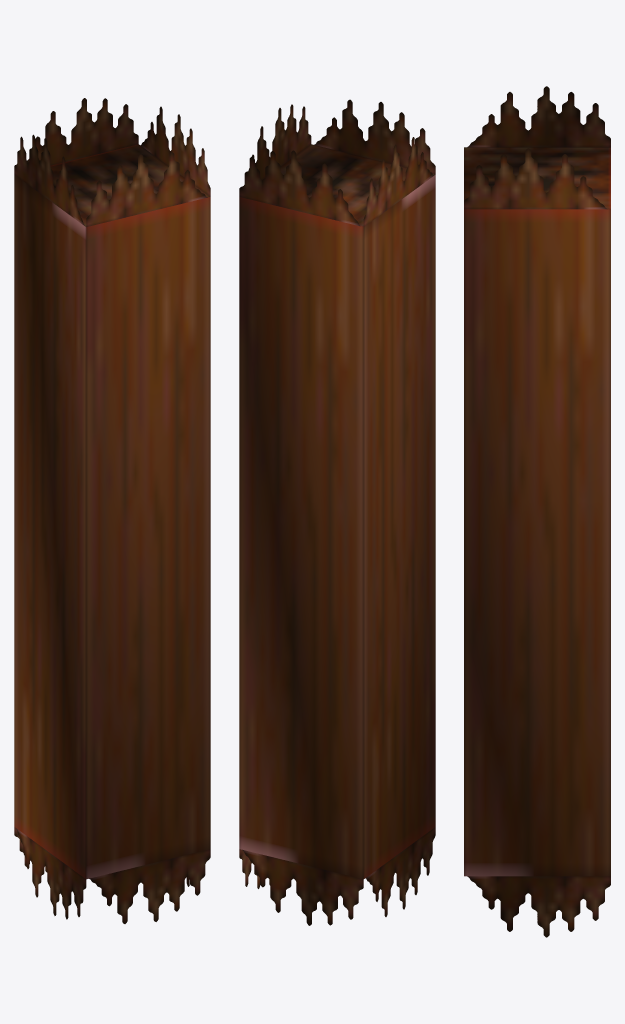
3 renders of one model, left to right at view 1: azimuth 30°, elevation 25°; view 2: azimuth 150°, elevation 25°; view 3: azimuth 270°, elevation 25°, orthographic. The views are drawn at different scales.
Parts seen in each view (by area): view 1: T1L7M003_13; view 2: T1L7M003_13; view 3: T1L7M003_13.
Boxes of the visible parts, x1,y1,x2,y2 form: T1L7M003_13: (14, 98, 210, 923); T1L7M003_13: (239, 99, 435, 925); T1L7M003_13: (464, 86, 610, 937).
Bounding box in the file's own units: 0.3994 × 2.8 × 0.3994.
